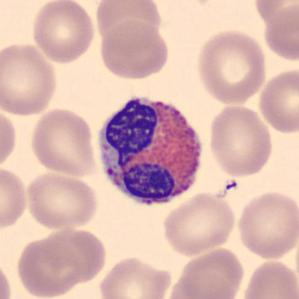Eosinophil: (92, 87, 209, 214)
RBC: (13, 226, 106, 298), (194, 27, 269, 106), (206, 102, 275, 179), (27, 106, 100, 178), (160, 190, 238, 257), (96, 18, 171, 82), (0, 40, 61, 118), (22, 170, 100, 230), (234, 188, 298, 261), (29, 0, 97, 65), (176, 244, 247, 299), (91, 0, 165, 50), (96, 253, 172, 299), (256, 66, 298, 135), (239, 257, 298, 299), (260, 1, 299, 63), (162, 270, 238, 299), (0, 164, 30, 232), (252, 0, 298, 32), (0, 105, 18, 172), (0, 256, 13, 299)
